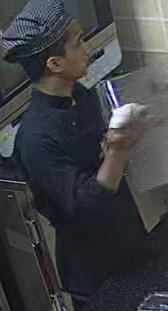no_apron: (26, 27, 148, 287)
